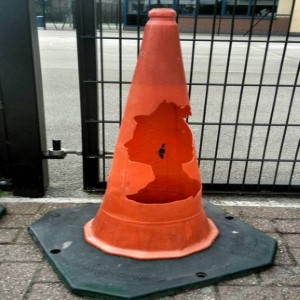traffic cone: (27, 7, 278, 300)
